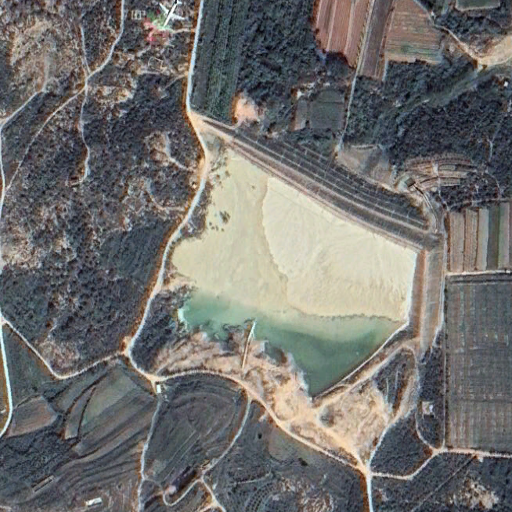tp: (176, 115, 430, 388)
